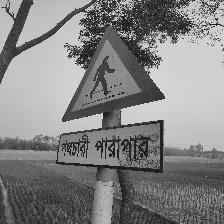Pedestrian-crossing: (57, 24, 166, 172)
